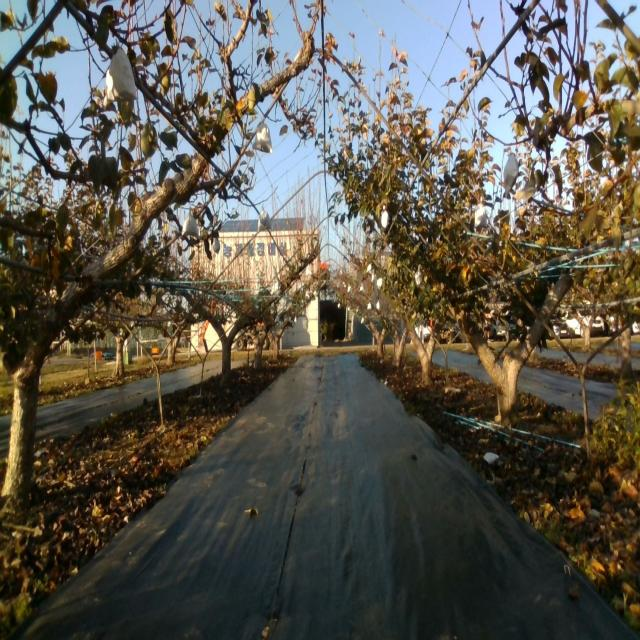pearbags: (105, 48, 137, 105), (502, 154, 519, 195), (252, 123, 274, 154), (182, 213, 199, 237), (473, 204, 488, 229), (258, 206, 272, 232)
